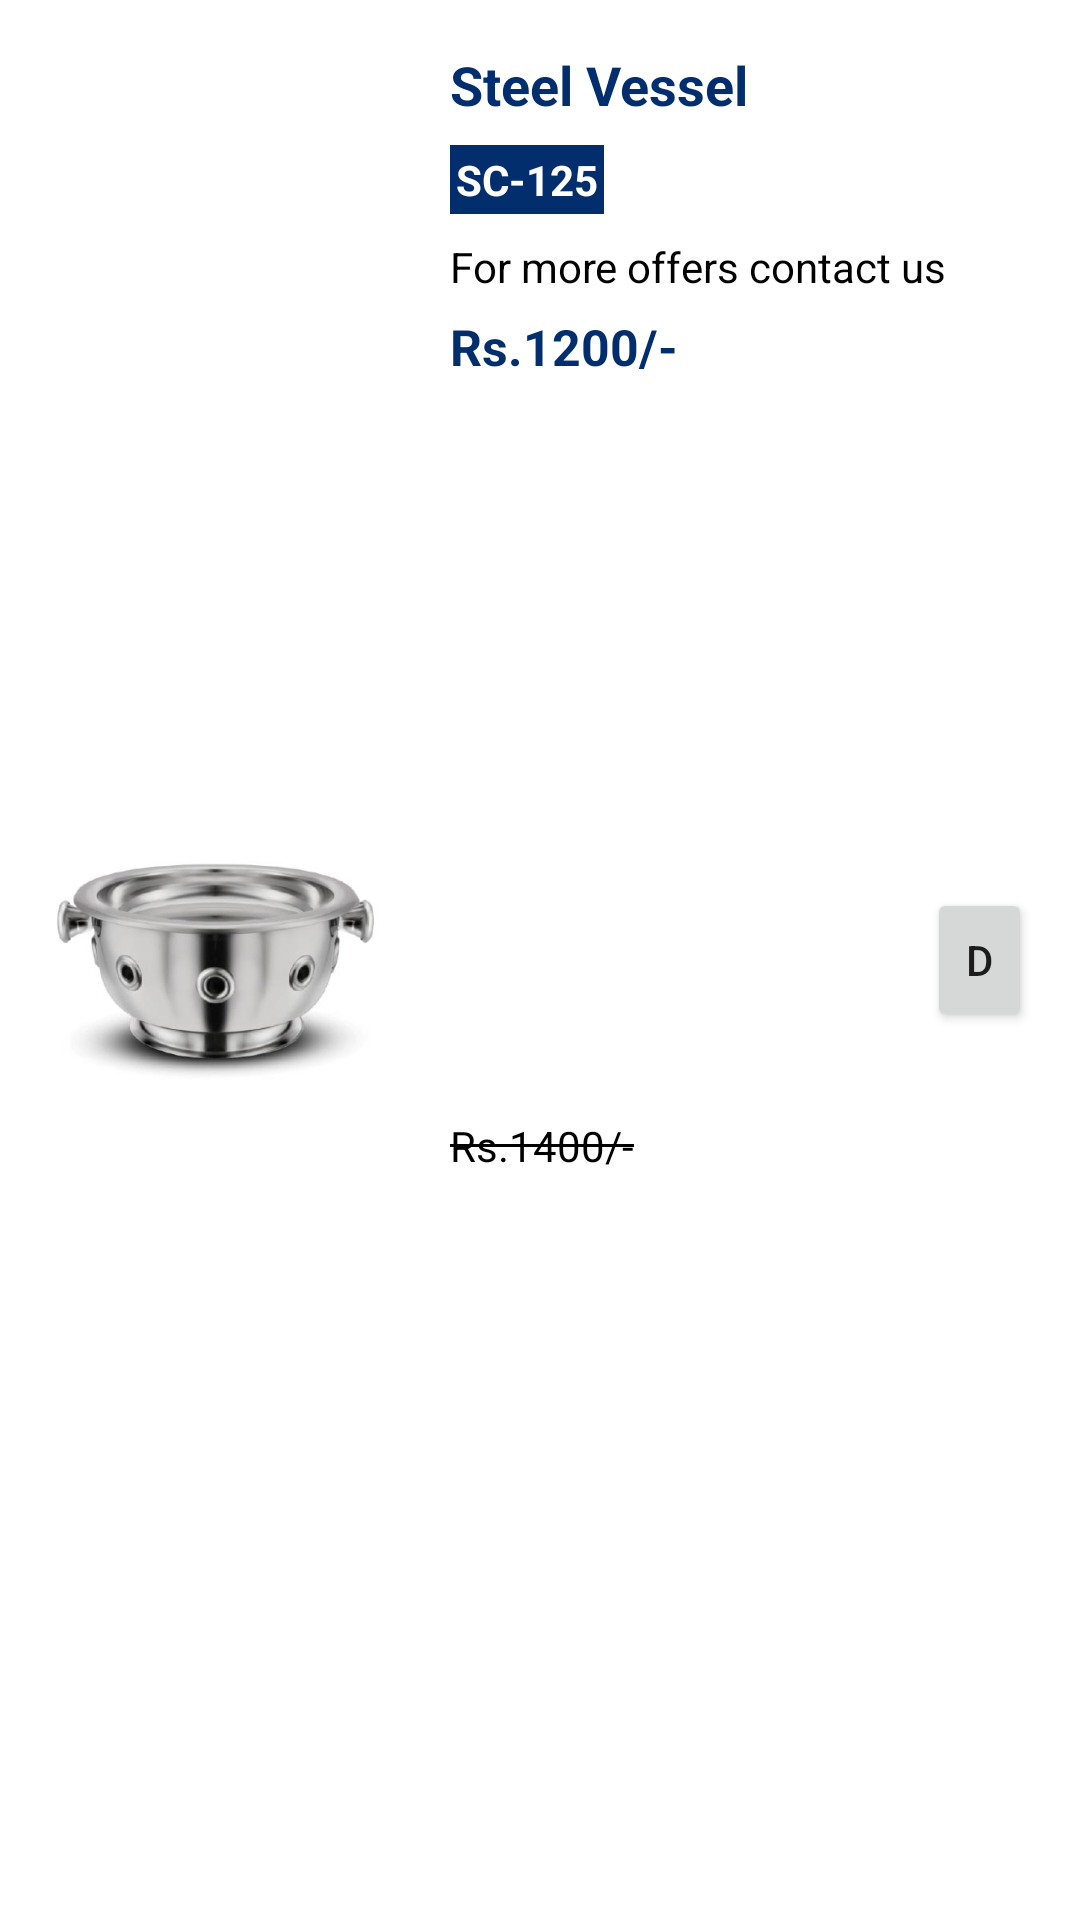

Named icons in this screenshot (1080 × 1920) and their bounding boxes, (x1, y1, x2, y2):
steelfour: (57, 864, 374, 1072)
